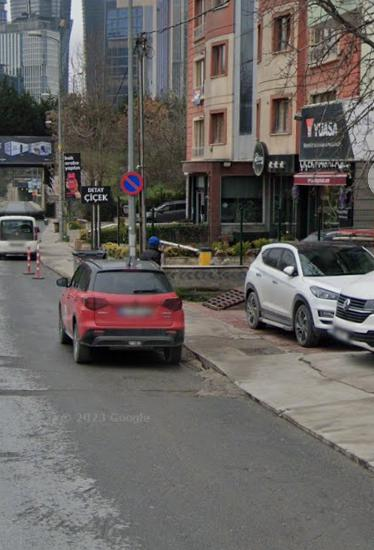nopark: (122, 173, 143, 194)
